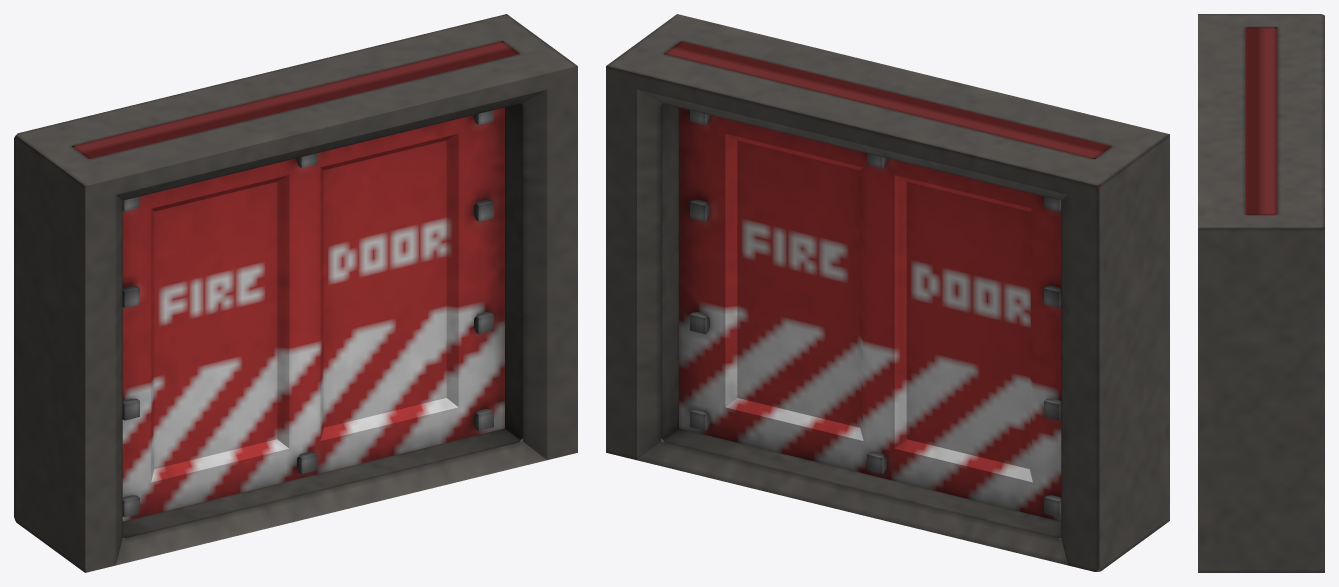
File: fire_door.obj
3 renders of one model, left to right at view 1: azimuth 30°, elevation 25°; view 2: azimuth 150°, elevation 25°; view 3: azimuth 270°, elevation 25°, orthographic. The views are drawn at different scales.
Visible parts, largest first — view 1: Door, Frame; view 2: Door, Frame; view 3: Frame, Door.
Boxes of the visible parts, left/top/right/bottom form: Door: left=73, top=41, right=519, bottom=521; Frame: left=14, top=14, right=577, bottom=572; Door: left=664, top=41, right=1111, bottom=521; Frame: left=606, top=14, right=1169, bottom=571; Frame: left=1198, top=14, right=1324, bottom=572; Door: left=1245, top=27, right=1277, bottom=214.
Bounding box in the file's own units: 4 × 3 × 1.
Materials: 1 (1 with a texture image).
